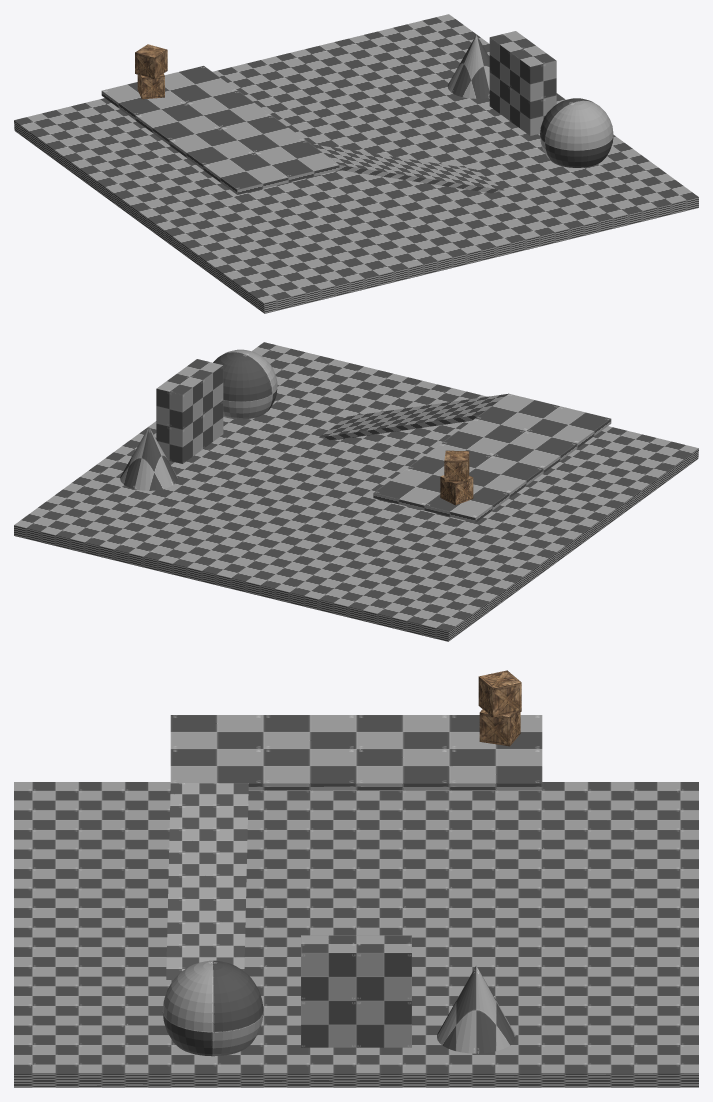
The model's file is test_room.gltf.
3 views of the same model, one above another, from view 1: azimuth 30°, elevation 25°; view 2: azimuth 150°, elevation 25°; view 3: azimuth 270°, elevation 25° (orthographic). The views are drawn at different scales.
Parts seen in each view (by area): view 1: Floor, Cube.002, Cube.001, Sphere, Cube.003, Cone, Cube.004, Cube; view 2: Floor, Cube.002, Cube.001, Cube.003, Sphere, Cone, Cube.004, Cube; view 3: Floor, Cube.002, Cube.003, Cube.001, Sphere, Cone, Cube.004, Cube.
Boxes of the visible parts, x1,y1,x2,y2 form: Floor: (14,14,698,313); Cube.002: (101,65,339,194); Cube.001: (489,31,556,135); Sphere: (540,98,613,167); Cube.003: (311,144,503,193); Cone: (448,35,489,98); Cube.004: (135,44,167,79); Cube: (137,73,164,99); Floor: (14,342,698,641); Cube.002: (373,393,611,522); Cube.001: (156,359,223,463); Cube.003: (319,393,508,440); Sphere: (213,349,277,419); Cone: (120,427,177,490); Cube.004: (444,450,469,482); Cube: (440,475,473,505); Floor: (14,782,698,1087); Cube.002: (170,715,542,790); Cube.003: (166,783,248,979); Cube.001: (301,935,411,1047); Sphere: (162,960,263,1056); Cone: (437,965,515,1053); Cube.004: (478,670,521,717); Cube: (479,709,520,746).
Size of the model in its own units: 60.2 by 15.73 by 59.94.
Materials: 3 (3 with a texture image).
